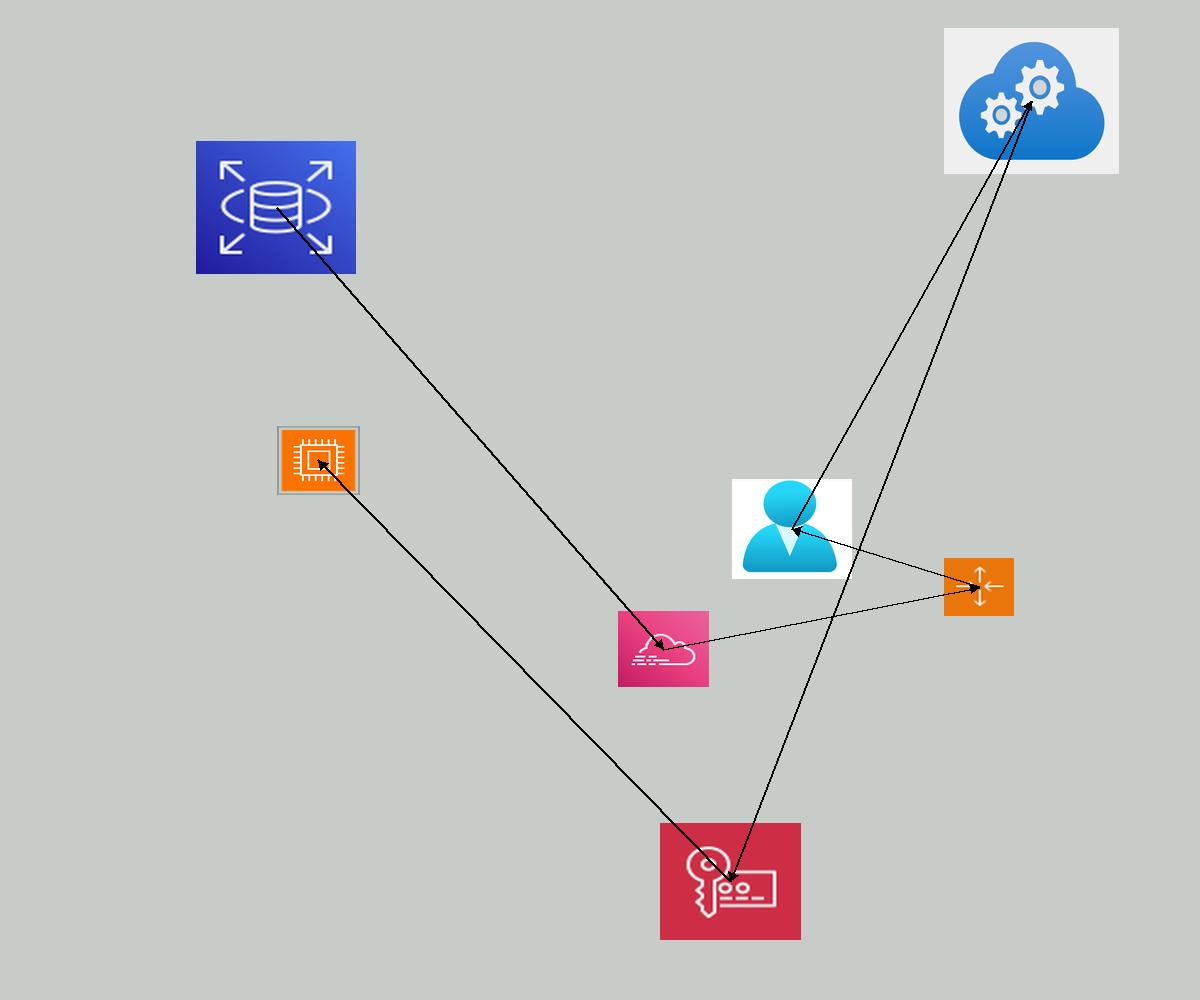AWS-Category_Compute: (277, 426, 360, 495)
AWS-CloudTrail: (618, 611, 709, 687)
AWS-Key-Management-Service: (660, 823, 801, 940)
AWS-RDS: (196, 141, 356, 274)
AWS-Scaling-group: (944, 558, 1014, 616)
Azure_cloud_services: (944, 28, 1119, 174)
Azure_users: (732, 479, 852, 579)
